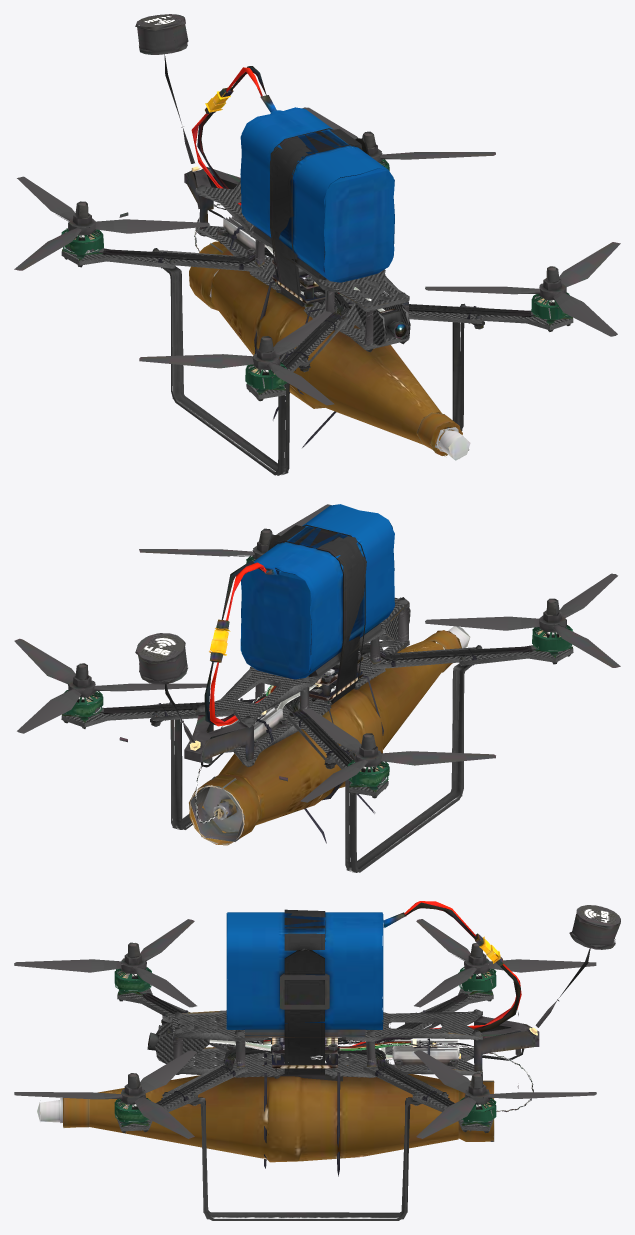
The model's file is drone_fpv.glb.
The picture shows the model from 3 angles, top to bottom: view 1: azimuth 30°, elevation 25°; view 2: azimuth 150°, elevation 25°; view 3: azimuth 270°, elevation 25°; orthographic projection. The views are drawn at different scales.
Visible parts, largest first — view 1: drone_fpv_mesh; view 2: drone_fpv_mesh; view 3: drone_fpv_mesh.
Part boxes in pixels (box(x1,y1,x2,y2)): drone_fpv_mesh: box(14, 14, 620, 475); drone_fpv_mesh: box(14, 504, 620, 872); drone_fpv_mesh: box(14, 901, 620, 1220).
Bounding box in the file's own units: 0.4768 × 0.2918 × 0.5557.
Materials: 1 (1 with a texture image).
